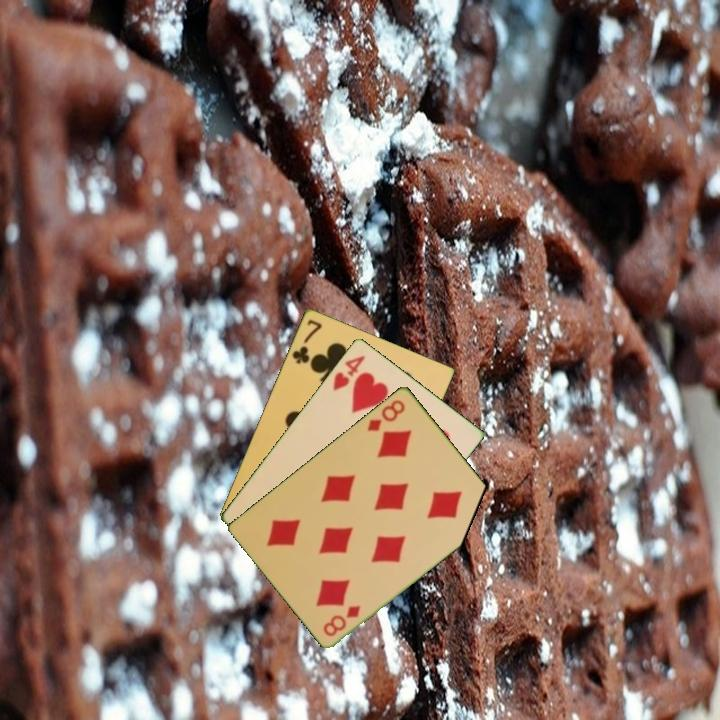4h: (329, 351, 368, 393)
7c: (288, 315, 325, 366)
8d: (363, 396, 408, 434), (319, 601, 363, 639)
